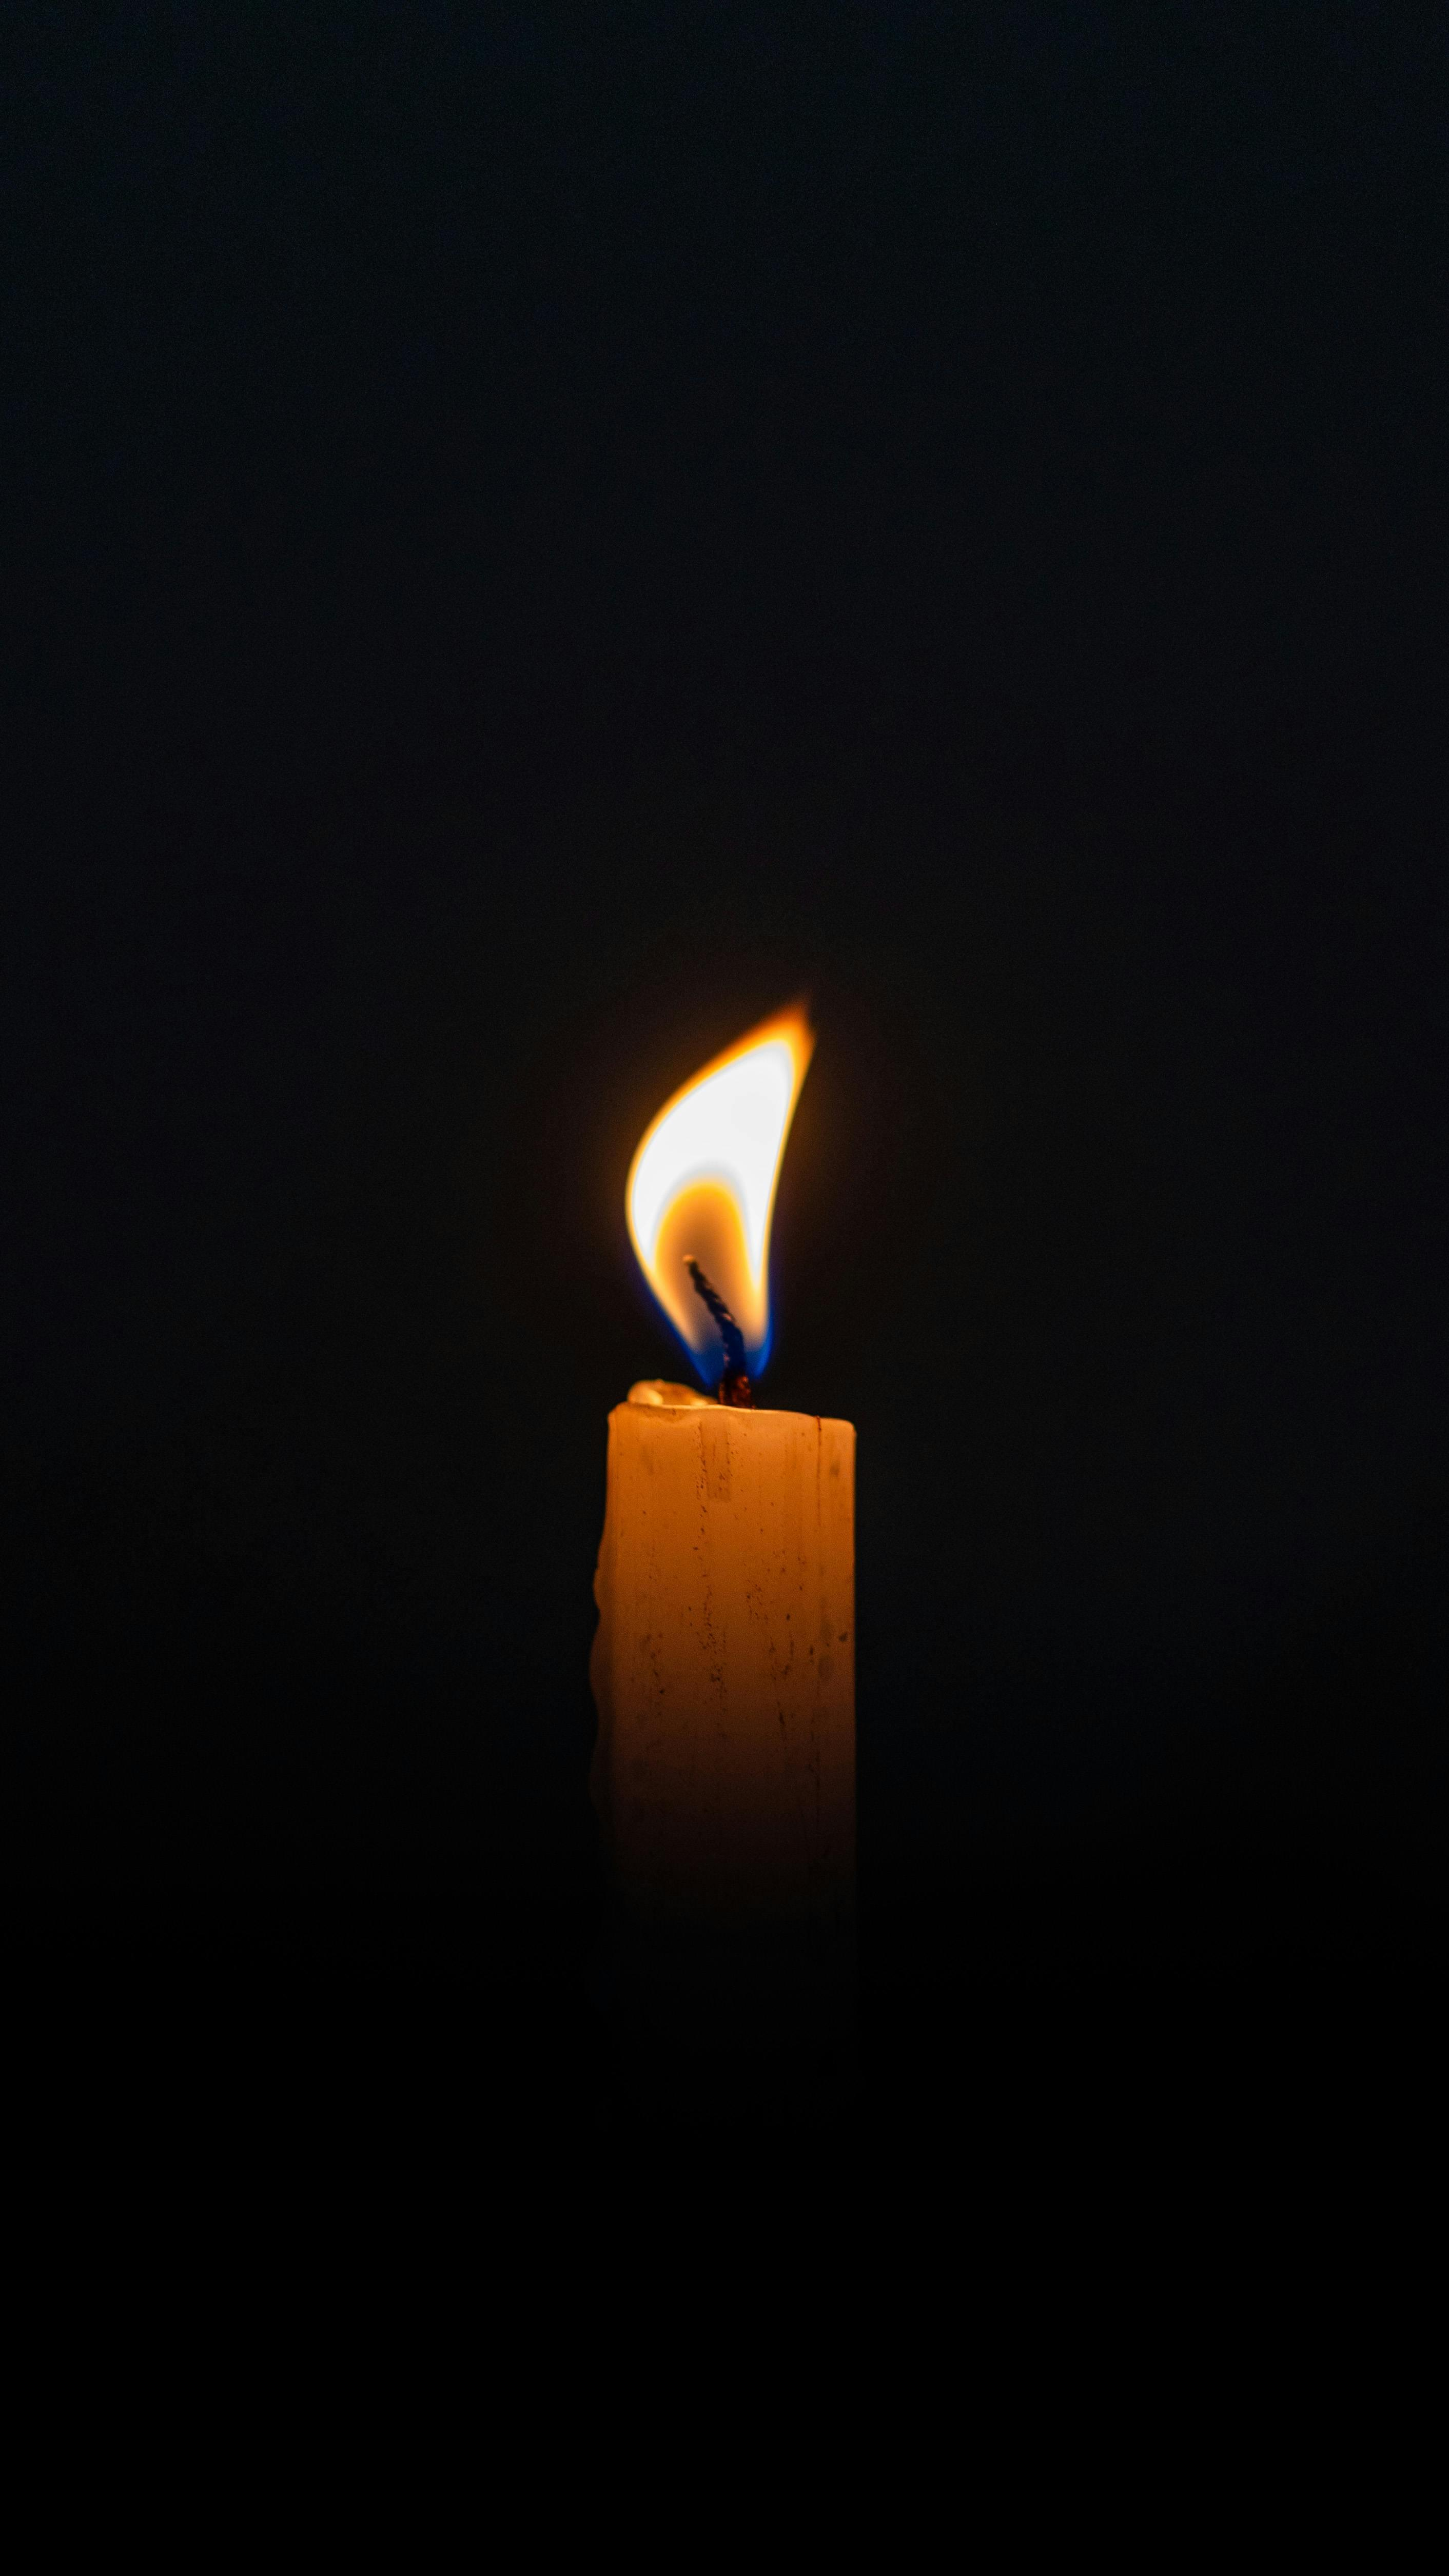Fire: (602, 980, 916, 1438)
